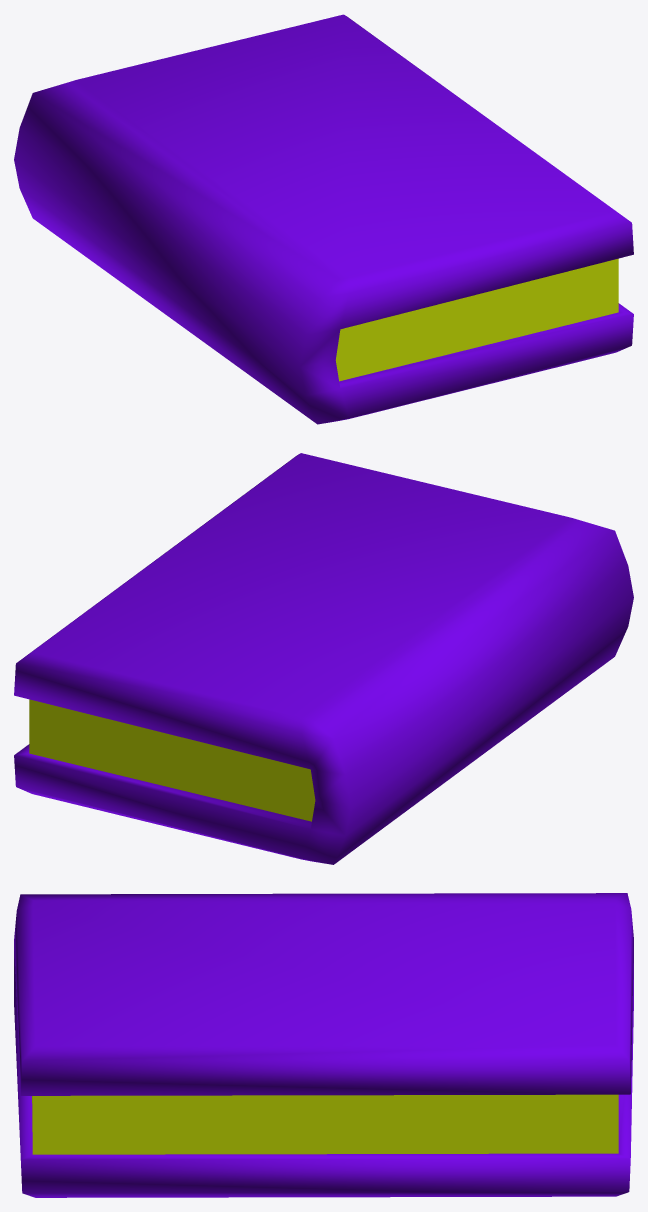
The model's file is BookV4.fbx.
3 views of the same model, one above another, from view 1: azimuth 30°, elevation 25°; view 2: azimuth 150°, elevation 25°; view 3: azimuth 270°, elevation 25° (orthographic). The views are drawn at different scales.
Parts seen in each view (by area): view 1: Cube, Cube.001; view 2: Cube, Cube.001; view 3: Cube, Cube.001.
Part boxes in pixels (bbox=[...]): Cube: bbox=[14, 14, 633, 424]; Cube.001: bbox=[335, 258, 618, 381]; Cube: bbox=[14, 453, 633, 864]; Cube.001: bbox=[29, 699, 315, 821]; Cube: bbox=[14, 893, 633, 1197]; Cube.001: bbox=[32, 1094, 618, 1154].
Bounding box in the file's own units: 99.24 × 39.75 × 147.
